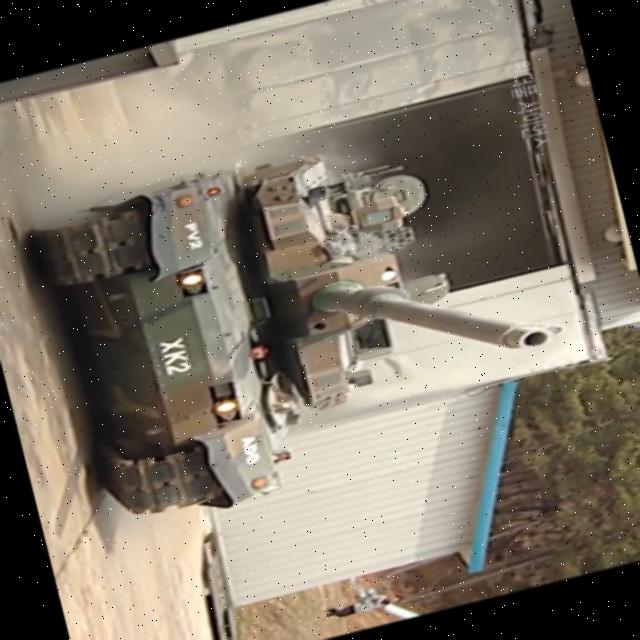korea tank: (21, 93, 585, 539)
